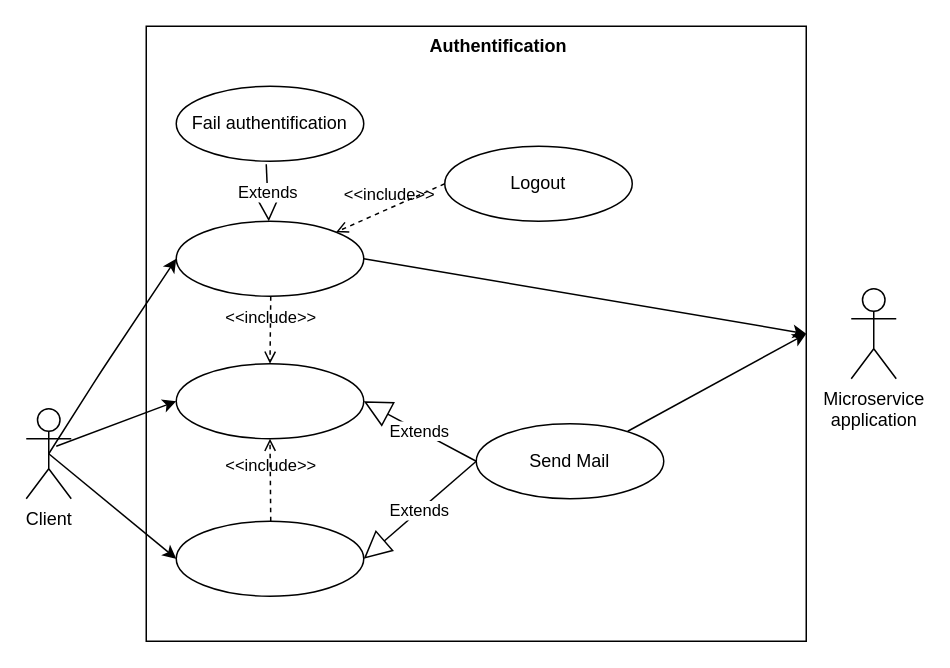
Some shapes in this 950 by 668 pixel diagram are drawn without their labels. Here are the shapes that lost their labels. From the top down, the centre of each, then its label:
At (269,258): "Login".
At (269,400): "Registration".
At (269,558): "Forgotten Password".
